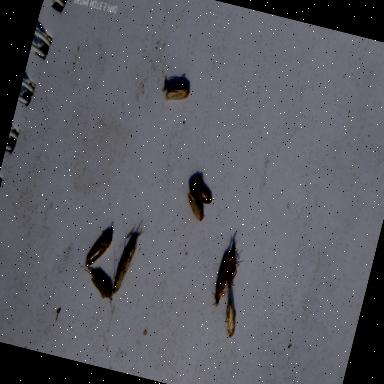pbw: (102, 219, 146, 298), (75, 260, 123, 308), (80, 221, 117, 275), (214, 287, 249, 343), (208, 247, 237, 314), (219, 237, 249, 296), (160, 68, 194, 108), (184, 172, 219, 207), (178, 186, 211, 223)
